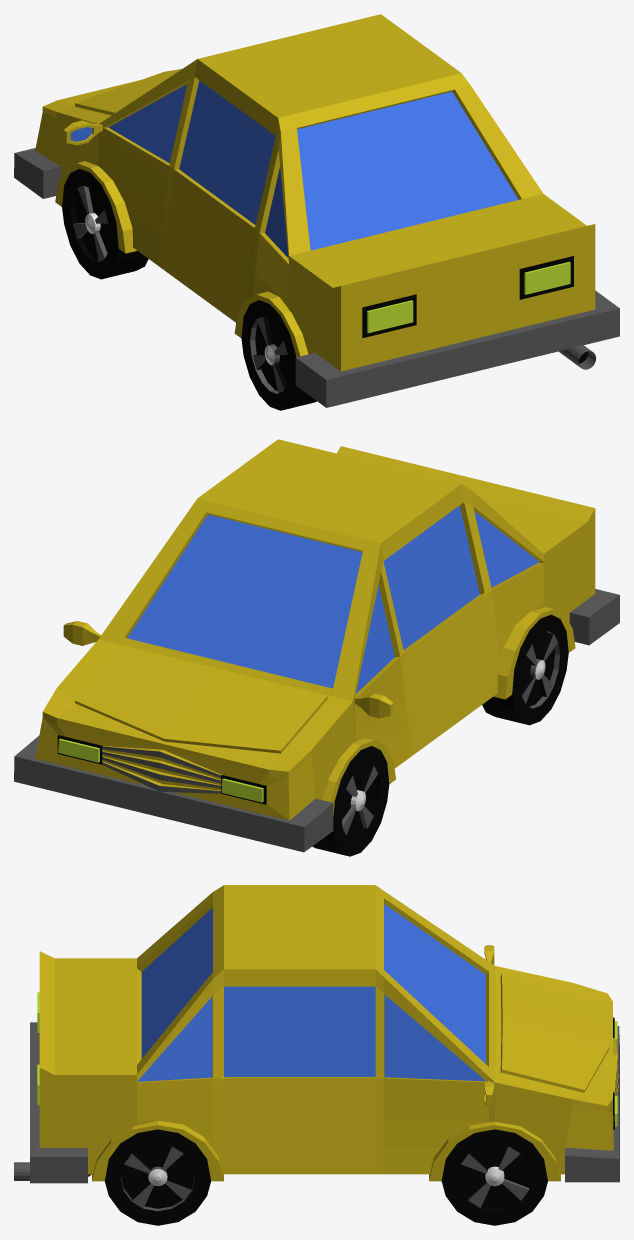
File: car_8.fbx
3 renders of one model, top to bottom at view 1: azimuth 30°, elevation 25°; view 2: azimuth 150°, elevation 25°; view 3: azimuth 270°, elevation 25°, orthographic. The views are drawn at different scales.
Visible parts, largest first — view 1: Car6; view 2: Car6; view 3: Car6.
Part boxes in pixels (left/top/right/bottom): Car6: left=14, top=14, right=619, bottom=410; Car6: left=14, top=439, right=619, bottom=856; Car6: left=14, top=885, right=619, bottom=1225.
Bounding box in the file's own units: 73.11 × 53.96 × 125.
